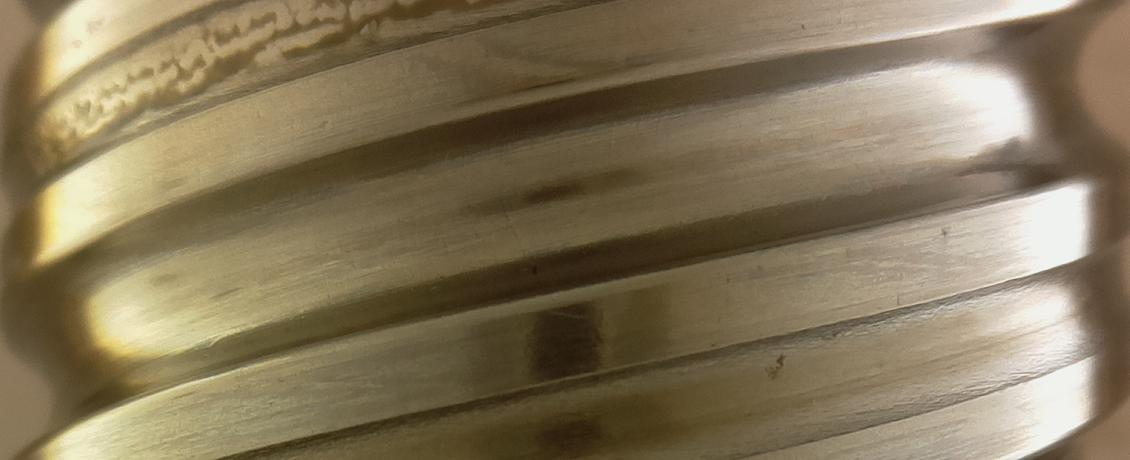pitting: (532, 264, 537, 275)
